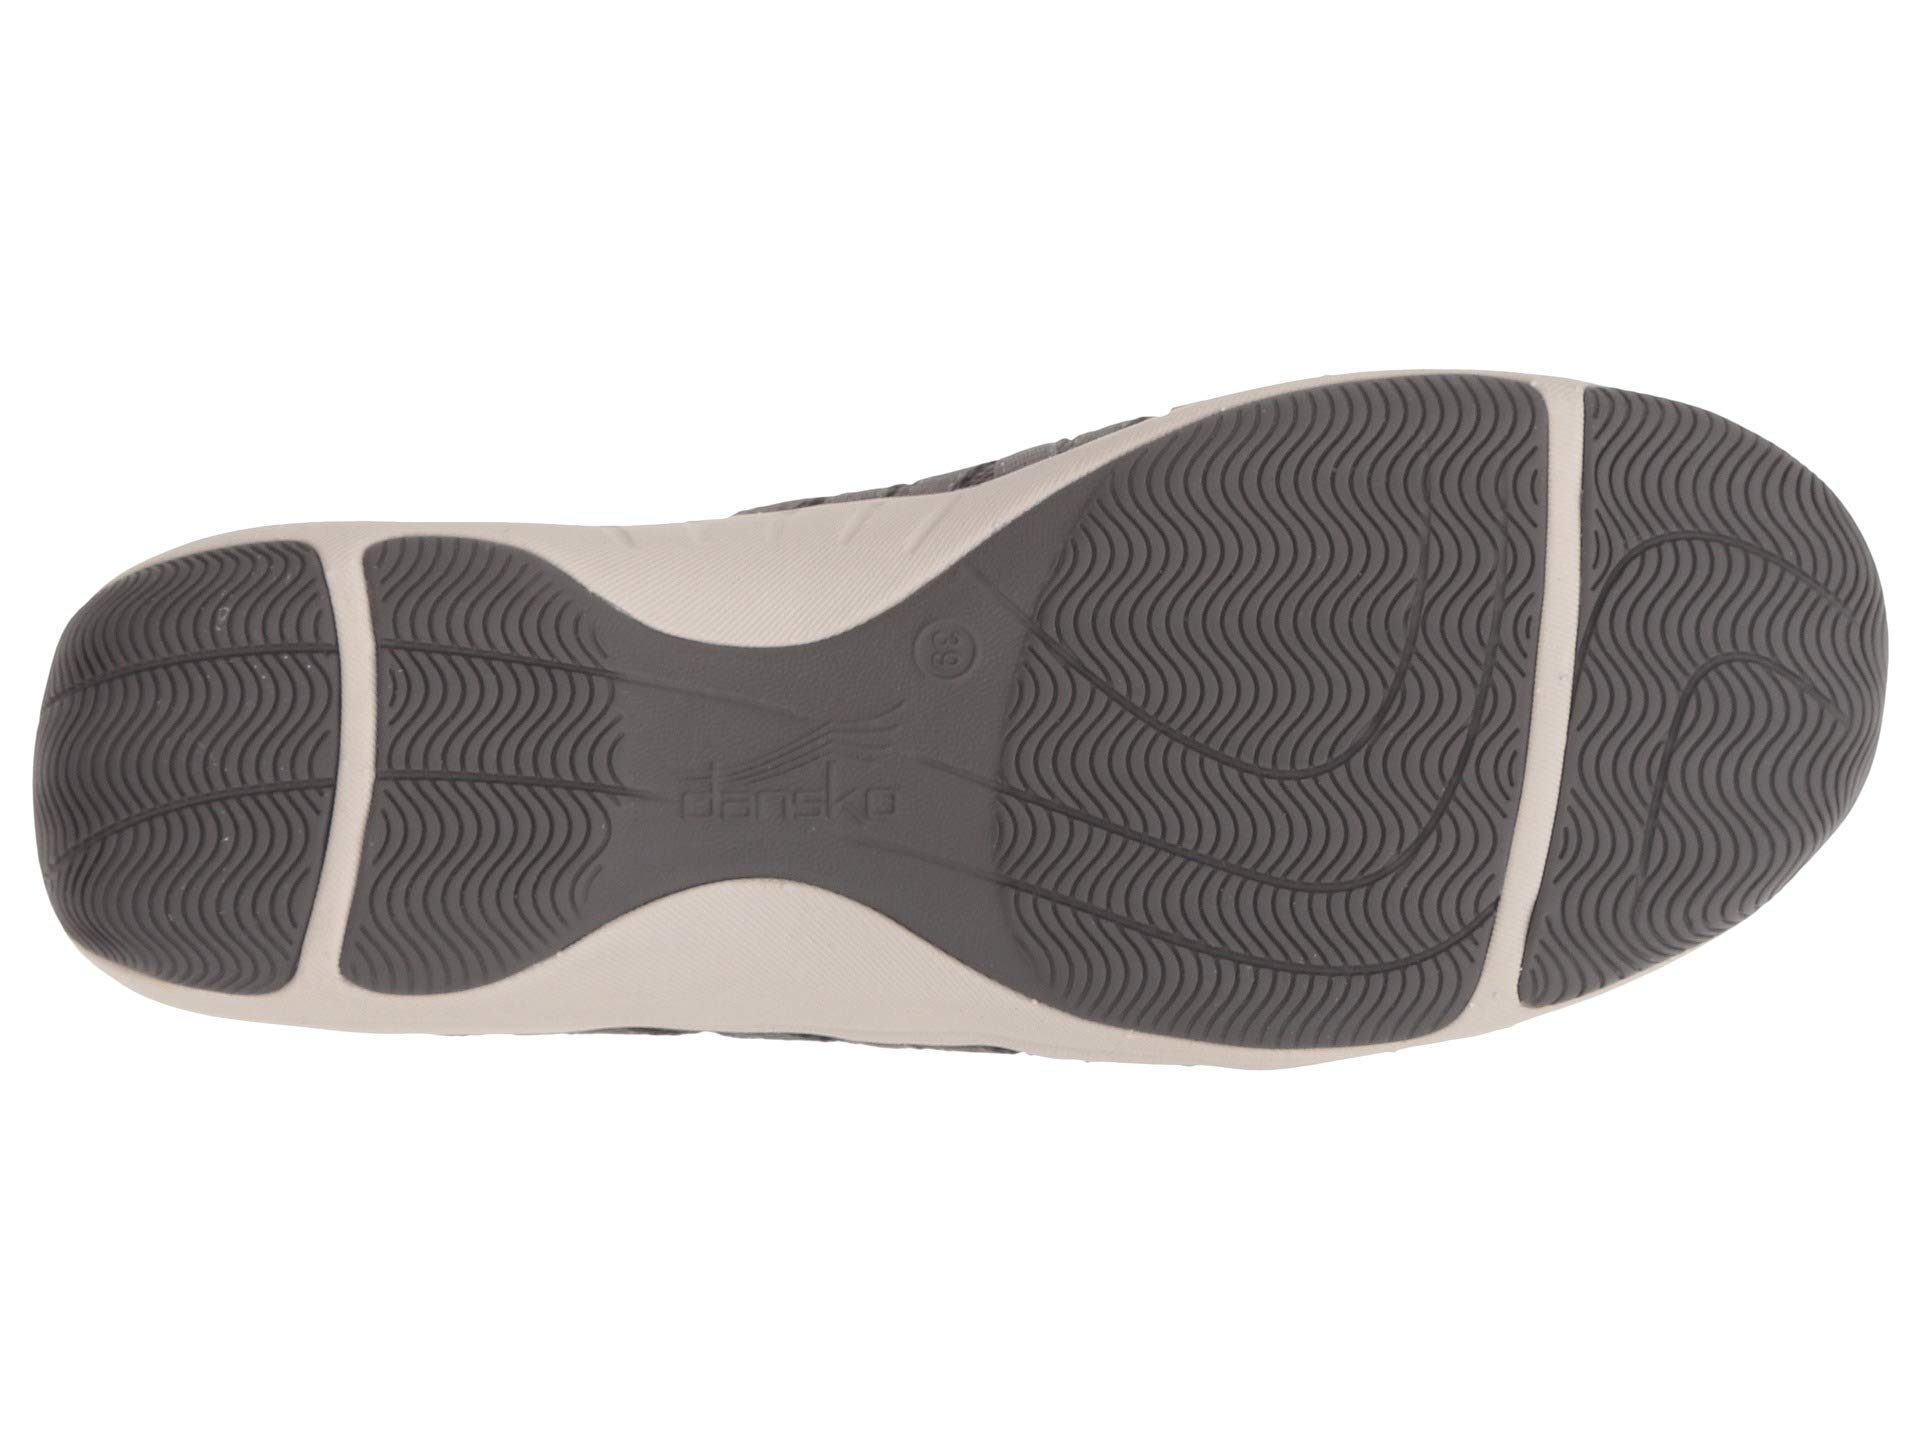chevron: (1076, 427, 1454, 1018), (1615, 460, 1816, 846), (82, 605, 286, 938), (396, 590, 578, 930), (626, 672, 930, 846)
circle: (906, 607, 986, 687)
line: (1076, 427, 1454, 1018), (1615, 460, 1816, 846), (82, 605, 286, 938), (396, 590, 578, 930)
quad: (626, 672, 930, 846)
text: (626, 672, 930, 846), (906, 607, 986, 687)
